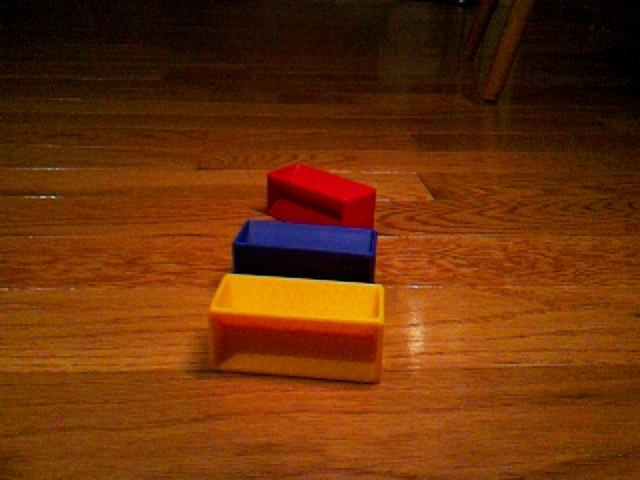blue: (231, 217, 379, 283)
red: (265, 161, 378, 230)
yellow: (207, 271, 386, 385)
